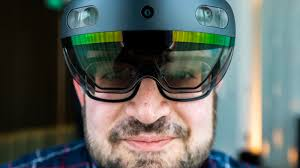hololens: (60, 1, 237, 102)
